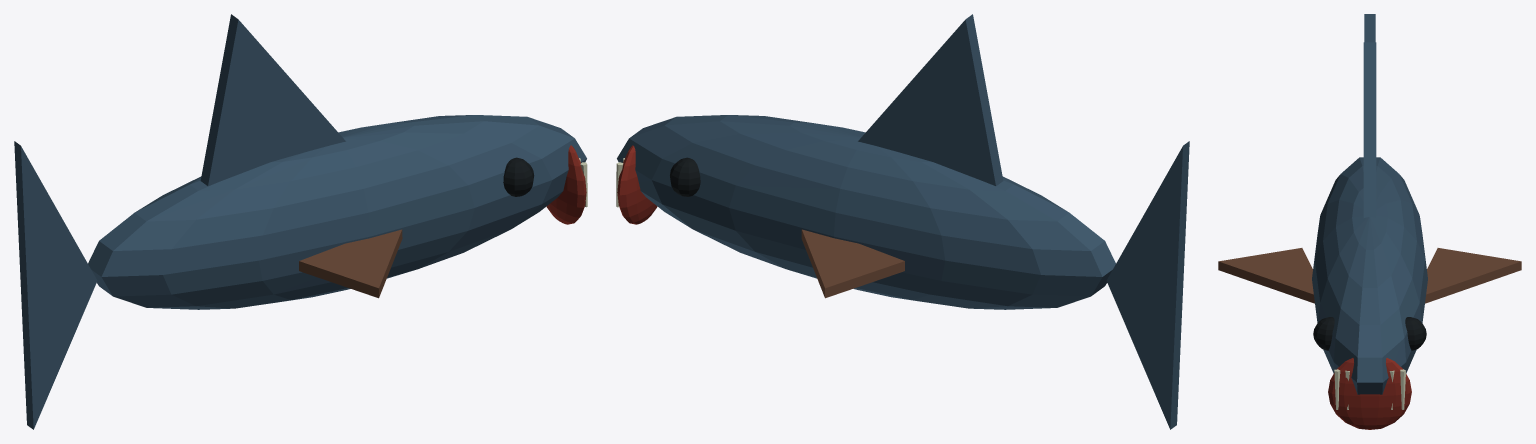
The model's file is viperfish.dae.
3 renders of one model, left to right at view 1: azimuth 30°, elevation 25°; view 2: azimuth 150°, elevation 25°; view 3: azimuth 270°, elevation 25°, orthographic. The views are drawn at different scales.
Parts seen in each view (by area): view 1: part4-node, part0-node, part2-node, part3-node; view 2: part4-node, part0-node, part2-node, part3-node; view 3: part4-node, part0-node, part2-node, part3-node, part1-node.
Part boxes in pixels (<box>): part4-node: <box>14,14,586,429</box>; part0-node: <box>299,229,402,298</box>; part2-node: <box>546,145,586,224</box>; part3-node: <box>503,157,534,196</box>; part4-node: <box>617,14,1189,429</box>; part0-node: <box>801,229,904,298</box>; part2-node: <box>617,145,657,224</box>; part3-node: <box>670,157,700,196</box>; part4-node: <box>1312,14,1427,394</box>; part0-node: <box>1218,248,1521,303</box>; part2-node: <box>1328,358,1411,429</box>; part3-node: <box>1313,317,1426,350</box>; part1-node: <box>1334,369,1405,409</box>.
Bounding box in the file's own units: 0.3 × 0.1602 × 0.184.
